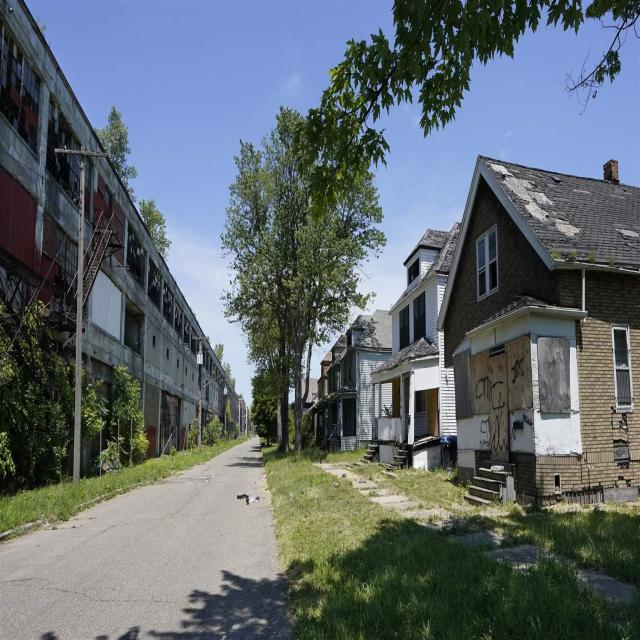House: (0, 0, 252, 491), (437, 155, 640, 510), (370, 222, 460, 469), (345, 307, 392, 456), (316, 309, 346, 454), (307, 348, 332, 446)
